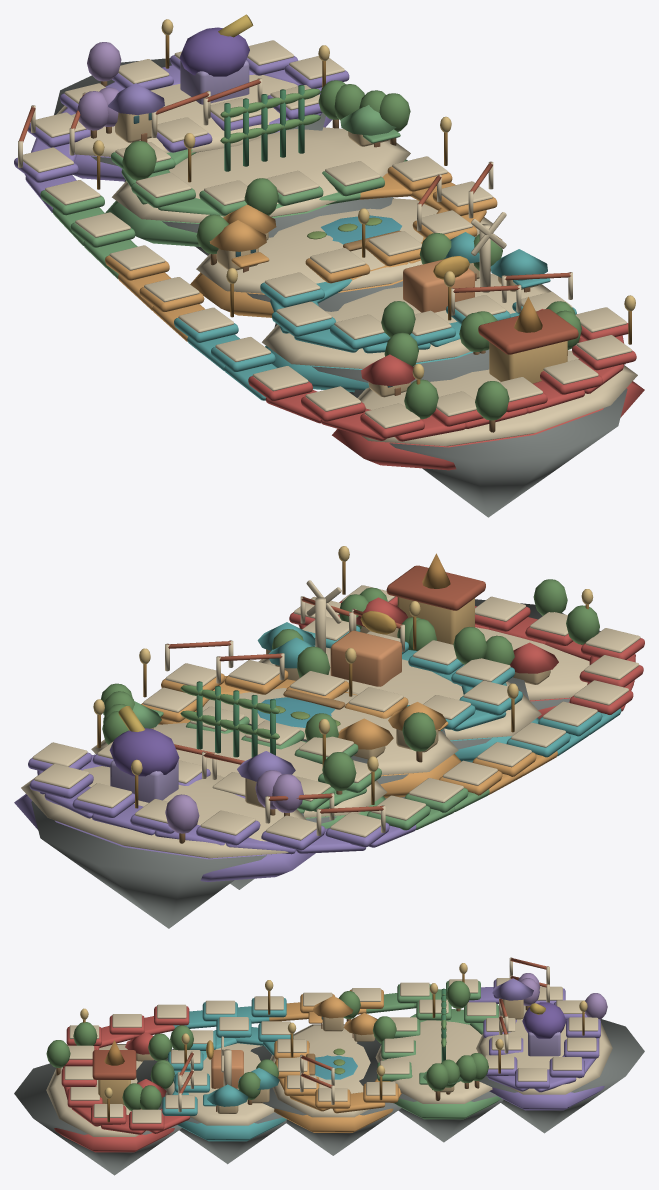
File: ben-may-blockout.glb
3 renders of one model, top to bottom at view 1: azimuth 30°, elevation 25°; view 2: azimuth 150°, elevation 25°; view 3: azimuth 270°, elevation 25°, orthographic. The views are drawn at different scales.
Parts seen in each view (by area): view 1: Grass_3, Floating_rock_0, Grass_2, Grass_0, Grass_1, Grass_4, Island_0, Observatory_dome, Station_roof, Bakery, Start_station, Island_3 (+74 smaller); view 2: Floating_rock_4, Grass_4, Grass_3, Grass_1, Grass_2, Bakery, Island_4, Observatory_dome, Station_roof, Grass_0, Start_station, Observatory (+71 smaller); view 3: Grass_3, Floating_rock_4, Floating_rock_0, Grass_2, Grass_4, Grass_1, Floating_rock_2, Floating_rock_3, Floating_rock_1, Grass_0, Island_4, Island_2 (+80 smaller).
Part boxes in pixels (box(x1,y1,x2,y2)): Grass_3: box(112, 127, 410, 222); Floating_rock_0: box(353, 388, 627, 517); Grass_2: box(196, 198, 492, 293); Grass_0: box(357, 350, 637, 446); Grass_1: box(262, 273, 551, 368); Grass_4: box(56, 74, 297, 156); Island_0: box(332, 381, 644, 470); Observatory_dome: box(179, 27, 249, 76); Station_roof: box(478, 309, 578, 354); Bakery: box(403, 259, 474, 312); Start_station: box(489, 341, 567, 383); Island_3: box(105, 159, 407, 246); Floating_rock_4: box(31, 801, 304, 928); Grass_4: box(21, 766, 306, 858); Grass_3: box(91, 723, 387, 817); Grass_1: box(258, 647, 541, 740); Grass_2: box(202, 688, 458, 775); Bakery: box(330, 630, 401, 686); Island_4: box(14, 794, 315, 881); Observatory_dome: box(109, 728, 179, 776); Station_roof: box(386, 565, 485, 610); Grass_0: box(475, 627, 589, 700); Start_station: box(397, 597, 474, 644); Observatory: box(110, 760, 178, 802); Grass_3: box(375, 1020, 492, 1103); Floating_rock_4: box(479, 1019, 644, 1133); Floating_rock_0: box(14, 1063, 181, 1175); Grass_2: box(270, 1024, 370, 1117); Grass_4: box(476, 1005, 612, 1094); Grass_1: box(165, 1043, 274, 1125); Floating_rock_2: box(250, 1046, 401, 1155); Floating_rock_3: box(357, 1038, 503, 1142); Floating_rock_1: box(136, 1049, 286, 1164); Grass_0: box(46, 1044, 146, 1136); Island_4: box(489, 1086, 604, 1110); Island_2: box(274, 1108, 393, 1132).
Size of the model in its own units: 5.74 by 4.21 by 12.55.
